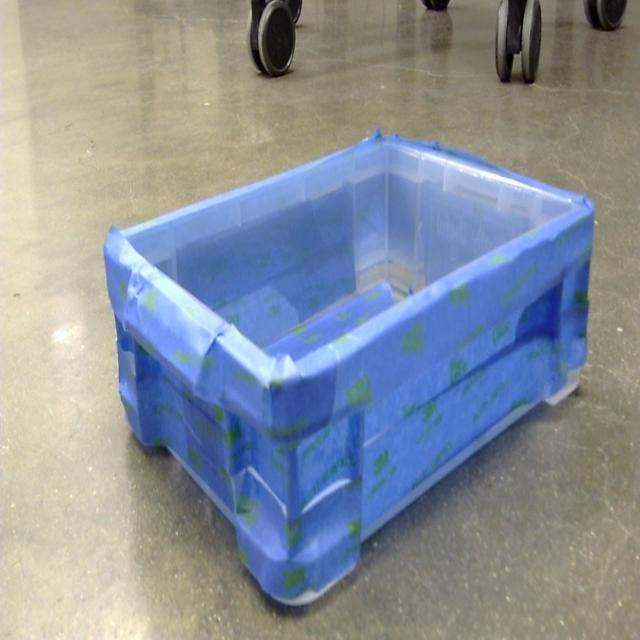bucket: (102, 132, 596, 612)
